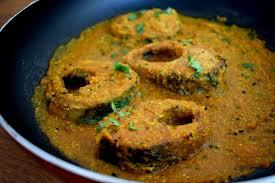Fish Curry: (30, 5, 275, 176)
